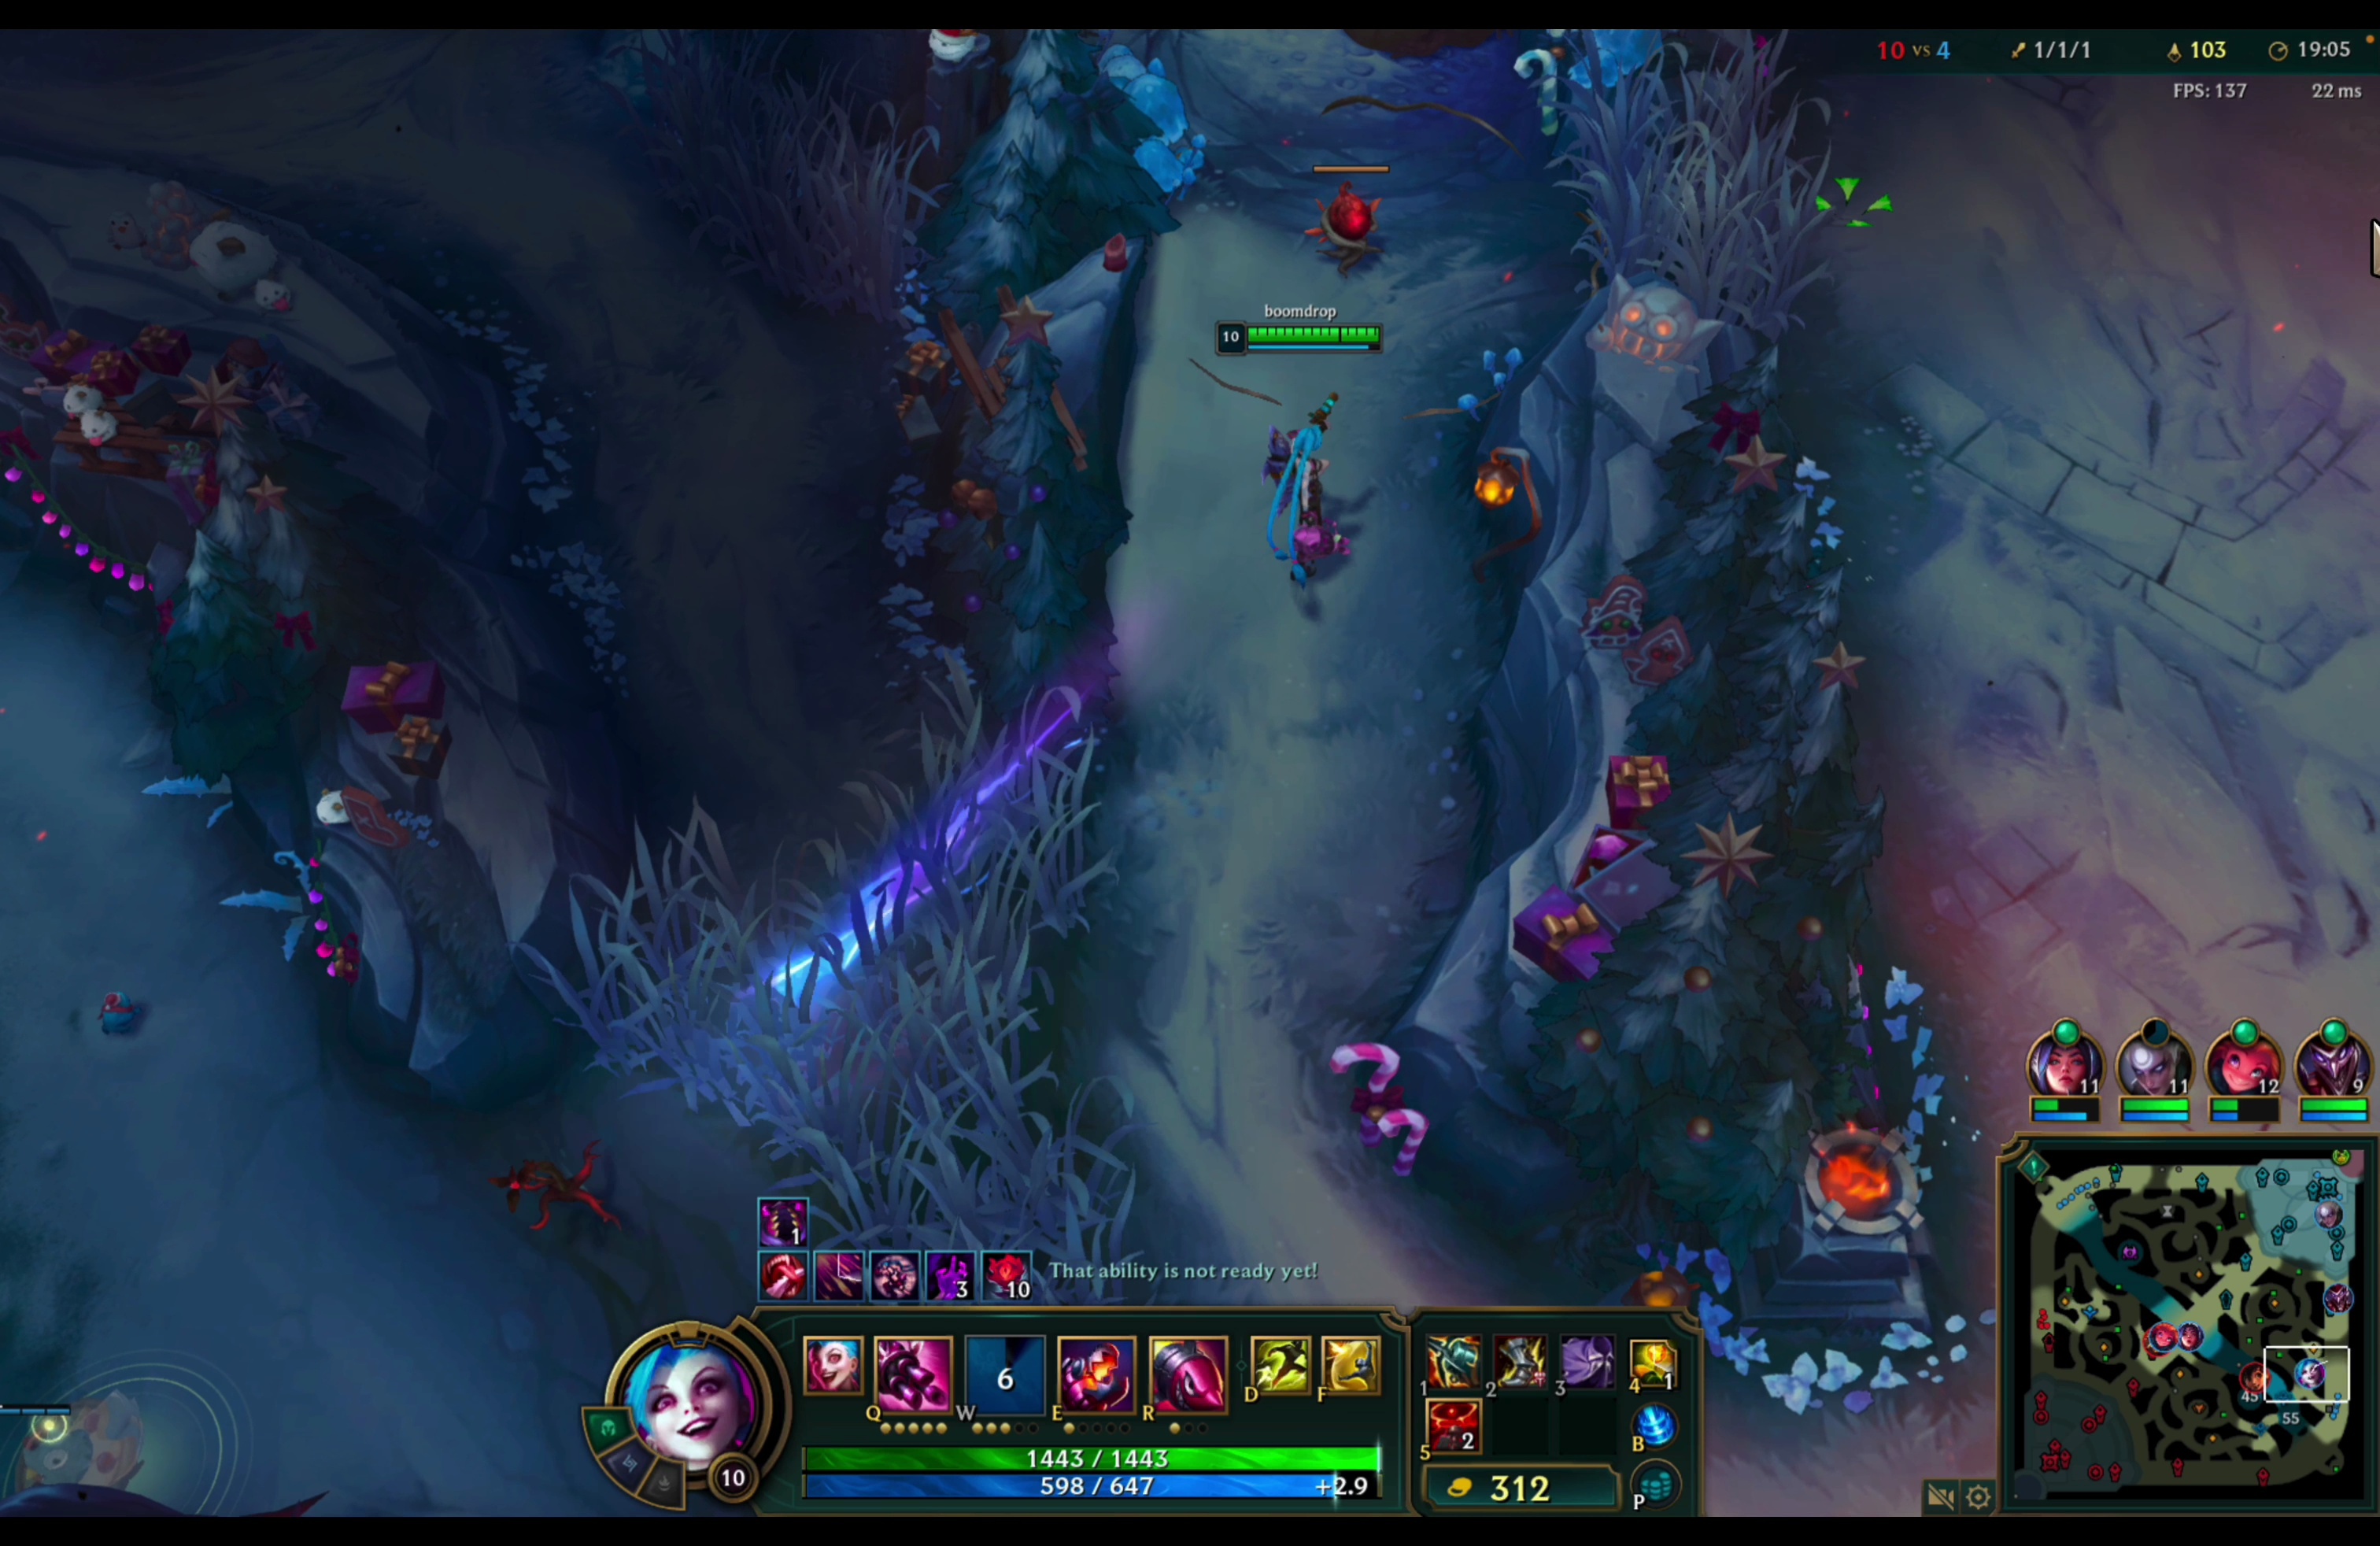JINX_W_PROJECTILE: (742, 680, 1102, 1032)
